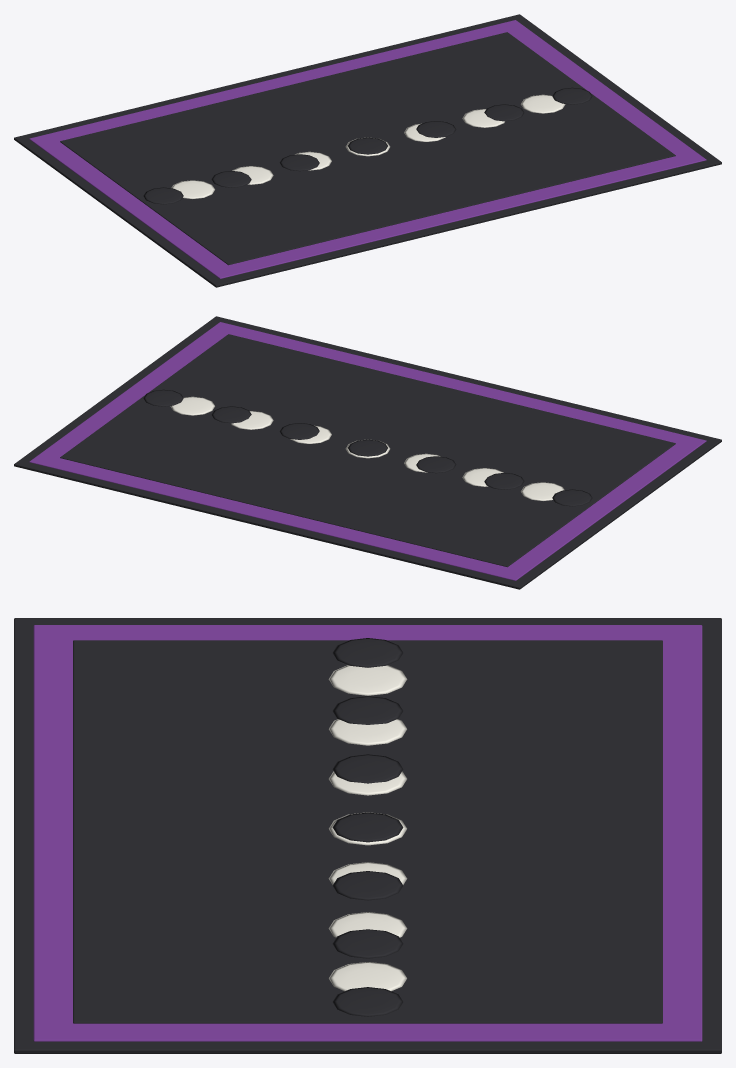
File: rug_moon_phases.glb
3 views of the same model, one above another, from view 1: azimuth 30°, elevation 25°; view 2: azimuth 150°, elevation 25°; view 3: azimuth 270°, elevation 25° (orthographic). The views are drawn at different scales.
Visible parts, largest first — view 1: GD_rug_moon_phases__m0, GD_rug_moon_phases__m1, GD_rug_moon_phases__m2; view 2: GD_rug_moon_phases__m0, GD_rug_moon_phases__m1, GD_rug_moon_phases__m2; view 3: GD_rug_moon_phases__m0, GD_rug_moon_phases__m1, GD_rug_moon_phases__m2.
Part boxes in pixels (bbox=[...]): GD_rug_moon_phases__m0: bbox=[14, 14, 721, 287]; GD_rug_moon_phases__m1: bbox=[29, 20, 706, 278]; GD_rug_moon_phases__m2: bbox=[171, 94, 565, 198]; GD_rug_moon_phases__m0: bbox=[14, 316, 721, 589]; GD_rug_moon_phases__m1: bbox=[29, 322, 706, 580]; GD_rug_moon_phases__m2: bbox=[170, 396, 564, 500]; GD_rug_moon_phases__m0: bbox=[14, 618, 721, 1053]; GD_rug_moon_phases__m1: bbox=[33, 625, 702, 1041]; GD_rug_moon_phases__m2: bbox=[328, 665, 407, 991].
Size of the model in its own units: 2.6 by 0.0345 by 1.8.
